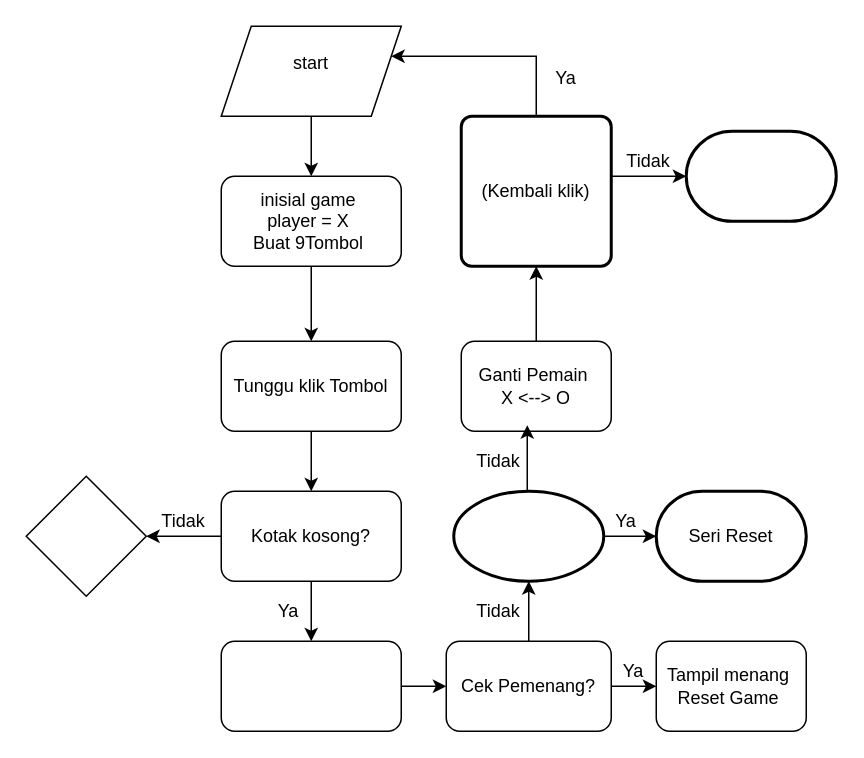
Some shapes in this 864 by 758 pixel diagram are drawn without their labels. Here are the shapes that lost their labels. From the top down, the centre of each, then its label:
At [760,175]: "Exit".
At [85,535]: "(Abaikan)".
At [528,535]: "Cek seri?".
At [310,685]: "Isi kotak".
